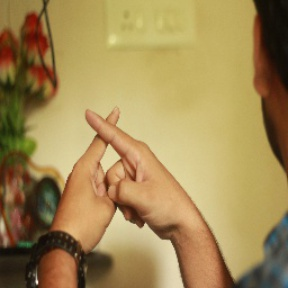X: (58, 94, 164, 210)
